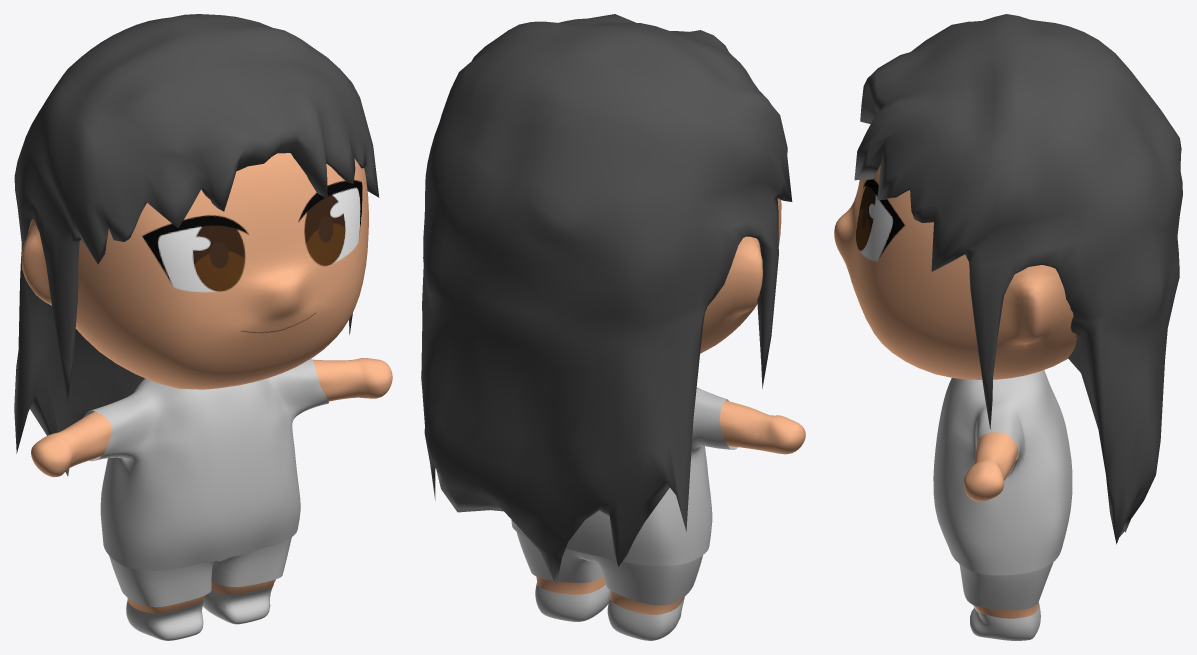
Rendered from qwerwqe.fbx.
The picture shows the model from 3 angles, left to right: view 1: azimuth 30°, elevation 25°; view 2: azimuth 150°, elevation 25°; view 3: azimuth 270°, elevation 25°; orthographic projection. The views are drawn at different scales.
Visible parts, largest first — view 1: HAIR_2, KATANWAN1, DAMIT; view 2: HAIR_2, DAMIT, KATANWAN1; view 3: HAIR_2, KATANWAN1, DAMIT.
Boxes of the visible parts, x1,y1,x2,y2 form: HAIR_2: (14, 14, 379, 476); KATANWAN1: (21, 153, 392, 613); DAMIT: (83, 358, 328, 640); HAIR_2: (421, 14, 792, 584); DAMIT: (511, 387, 737, 640); KATANWAN1: (536, 198, 805, 614); HAIR_2: (854, 14, 1182, 544); KATANWAN1: (834, 164, 1076, 618); DAMIT: (933, 370, 1072, 640).
Bounding box in the file's own units: 0.028 × 0.0441 × 0.0242.
